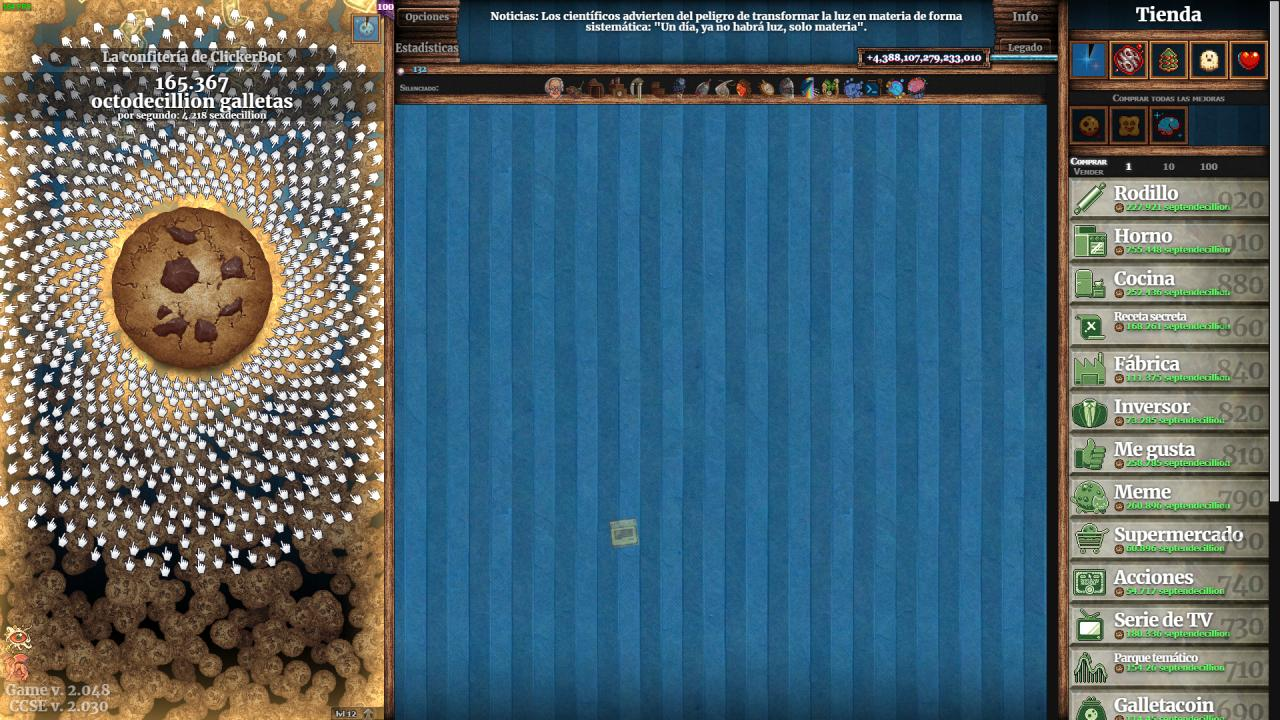GoldenCartridge: (608, 515, 641, 550)
